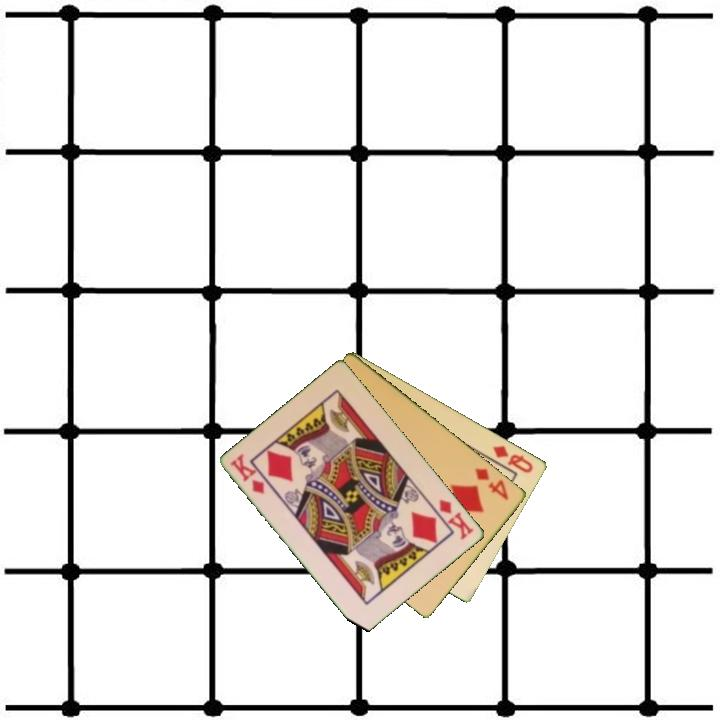4d: (472, 464, 512, 503)
Kd: (428, 495, 477, 543), (227, 450, 268, 497)
Qd: (489, 442, 536, 476)
